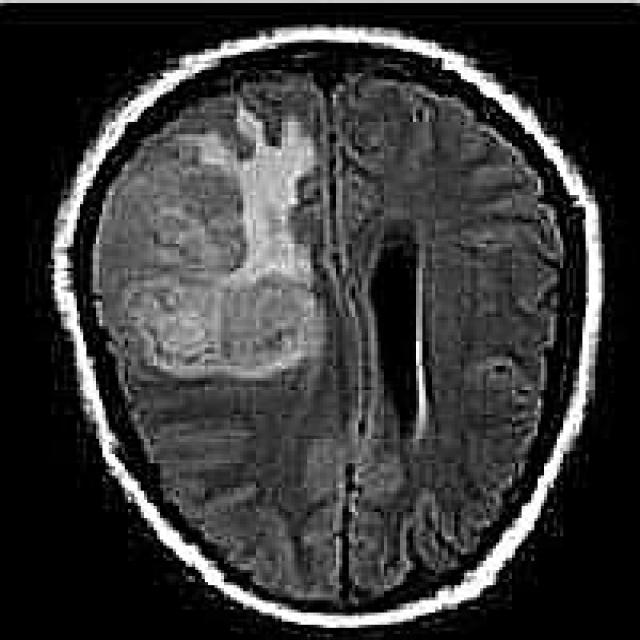Tumor-Cell: (120, 155, 342, 375)
